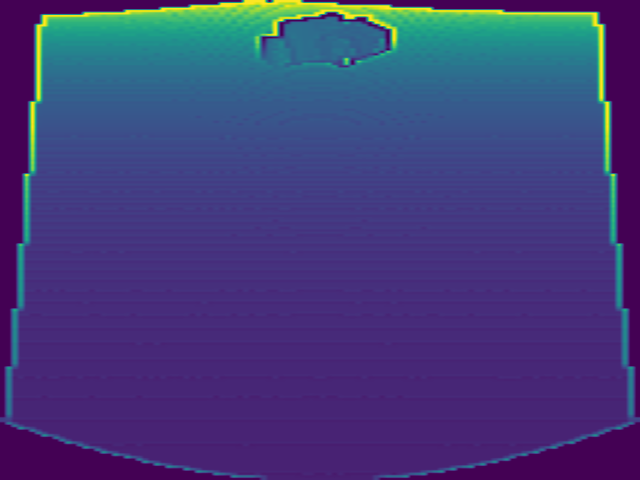car_0027: (260, 14, 399, 70)
